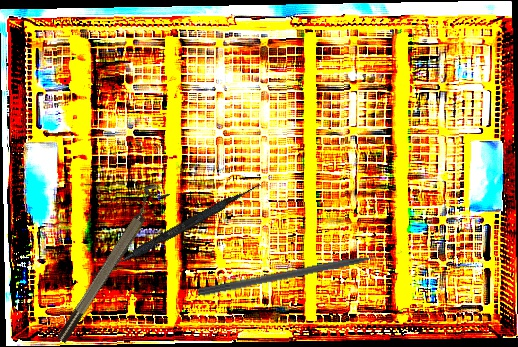Fixation Ring: (47, 180, 170, 346)
Pusher: (196, 248, 404, 299)
Spatula Surgical: (90, 177, 262, 284)
